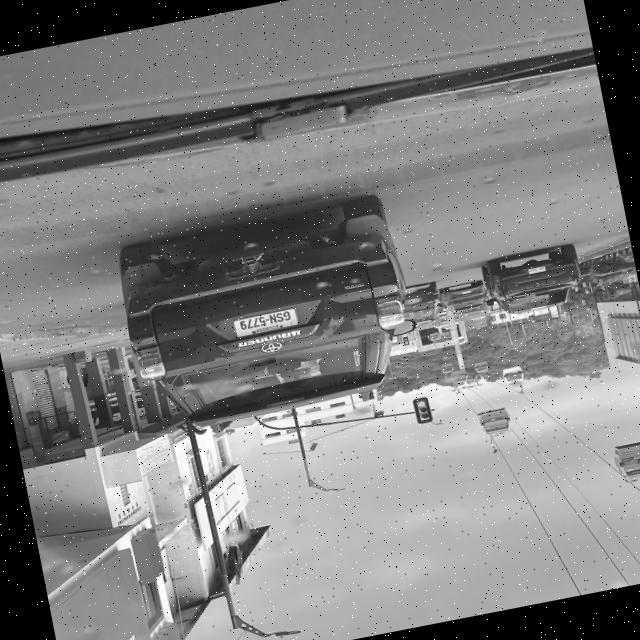Placa: (233, 308, 297, 336), (527, 265, 544, 273), (404, 297, 419, 304), (459, 290, 471, 294)
